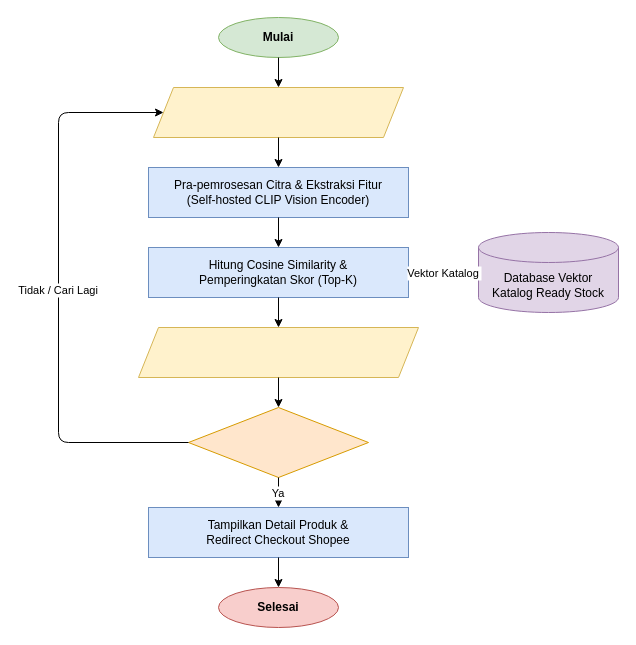
This 636x645 diagram has some shape labels left out. Here are the shapes that lost their labels. From the top down, the centre of each, then its label:
At point (278, 112): "Unggah Foto Kueri Produk (Real-life Photo / Screenshot)".
At point (278, 352): "Penayangan Hasil Top-K Produk di Web Next.js".
At point (278, 442): "Pelanggan Memilih Produk?".
